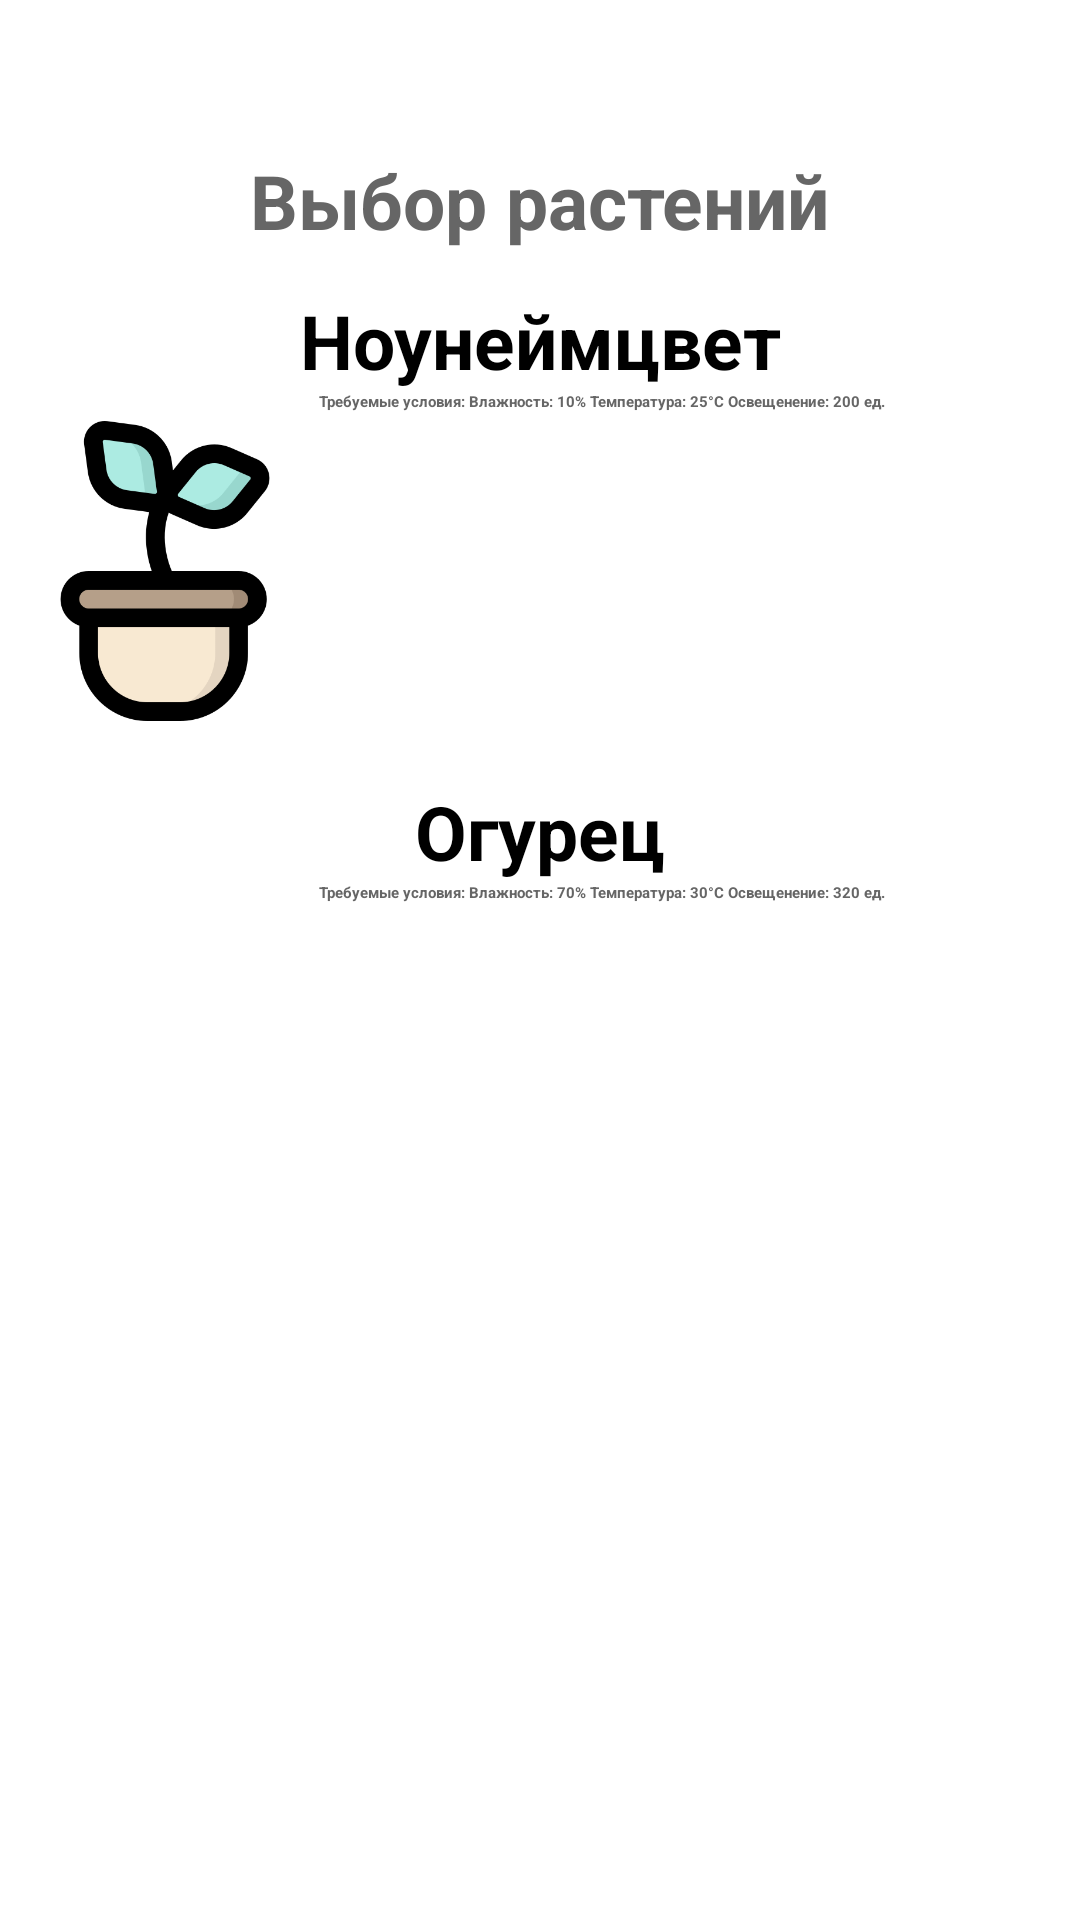

Locate icon controls on the screen. Image size 1080px x 1920px, boxes as bbox=(x1, y1, x2, y2).
plant: bbox=(60, 421, 270, 721)
